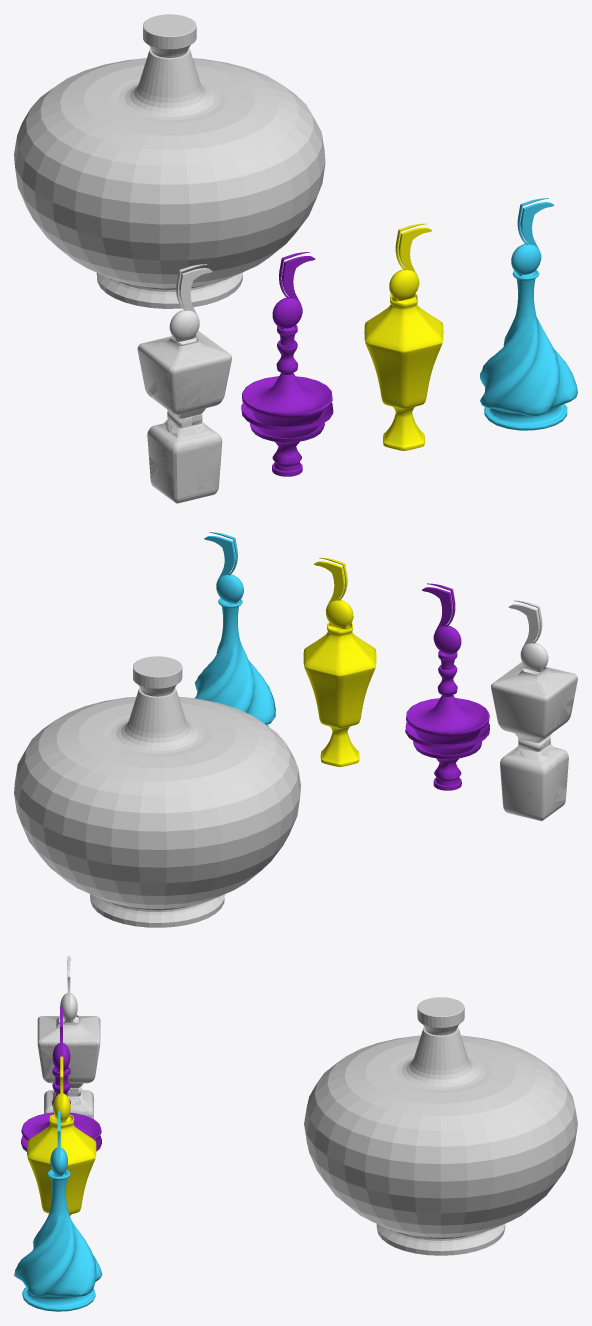
Rendered from Potion_Fin_Cassee.fbx.
3 views of the same model, one above another, from view 1: azimuth 30°, elevation 25°; view 2: azimuth 150°, elevation 25°; view 3: azimuth 270°, elevation 25° (orthographic). The views are drawn at different scales.
Visible parts, largest first — view 1: Potion_Fin_Corps, Potion_Legato_Corps, Potion_Solo_Corps, Potion_Staccato_Corps, Potions_Pizzicato_Corps, Potion_Fin_Corps.001_cell.086, Potion_Fin_Corps.001_cell.053, Potion_Fin_Bouchon, Potion_Fin_Corps.001_cell.063, Potion_Staccato_Bouchon, Potion_Fin_Corps.001_cell.088, Potion_Solo_Corps_Bouchon (+13 smaller); view 2: Potion_Fin_Corps, Potion_Solo_Corps, Potion_Staccato_Corps, Potions_Pizzicato_Corps, Potion_Legato_Corps, Potion_Fin_Corps.001_cell.097, Potion_Fin_Corps.001_cell.016, Potion_Fin_Corps.001_cell.093, Potion_Fin_Corps.001_cell.008, Potion_Fin_Bouchon, Potion_Fin_Corps.001_cell.044, Potion_Fin_Corps.001_cell.088 (+11 smaller); view 3: Potion_Fin_Corps, Potion_Legato_Corps, Potion_Staccato_Corps, Potion_Solo_Corps, Potion_Fin_Corps.001_cell.067, Potion_Fin_Corps.001_cell.097, Potion_Fin_Corps.001_cell.042, Potion_Fin_Corps.001_cell.030, Potion_Fin_Corps.001_cell.069, Potions_Pizzicato_Corps, Potion_Fin_Bouchon, Potion_Fin_Corps.001_cell.038 (+11 smaller).
Boxes of the visible parts, box(x1,y1,x2,y2) form: Potion_Fin_Corps: box(14, 48, 325, 308); Potion_Legato_Corps: box(480, 269, 577, 430); Potion_Solo_Corps: box(137, 334, 231, 503); Potion_Staccato_Corps: box(364, 294, 443, 450); Potions_Pizzicato_Corps: box(241, 325, 333, 476); Potion_Fin_Corps.001_cell.086: box(194, 211, 288, 262); Potion_Fin_Corps.001_cell.053: box(58, 154, 148, 203); Potion_Fin_Bouchon: box(143, 14, 196, 57); Potion_Fin_Corps.001_cell.063: box(130, 224, 199, 269); Potion_Staccato_Bouchon: box(389, 223, 431, 303); Potion_Fin_Corps.001_cell.088: box(15, 118, 62, 196); Potion_Solo_Corps_Bouchon: box(169, 264, 212, 344); Potion_Fin_Corps: box(14, 687, 300, 927); Potion_Solo_Corps: box(491, 662, 577, 821); Potion_Staccato_Corps: box(303, 622, 376, 766); Potions_Pizzicato_Corps: box(405, 650, 489, 790); Potion_Legato_Corps: box(194, 598, 275, 726); Potion_Fin_Corps.001_cell.097: box(67, 755, 175, 804); Potion_Fin_Corps.001_cell.016: box(83, 790, 166, 861); Potion_Fin_Corps.001_cell.093: box(164, 793, 230, 864); Potion_Fin_Corps.001_cell.008: box(162, 768, 234, 804); Potion_Fin_Bouchon: box(133, 656, 182, 696); Potion_Fin_Corps.001_cell.044: box(67, 804, 144, 876); Potion_Fin_Corps.001_cell.088: box(230, 768, 288, 839); Potion_Fin_Corps: box(304, 1027, 577, 1255); Potion_Legato_Corps: box(14, 1169, 102, 1311); Potion_Staccato_Corps: box(27, 1114, 96, 1215); Potion_Solo_Corps: box(37, 1015, 100, 1118); Potion_Fin_Corps.001_cell.067: box(377, 1159, 461, 1221); Potion_Fin_Corps.001_cell.097: box(487, 1050, 567, 1107); Potion_Fin_Corps.001_cell.042: box(400, 1155, 501, 1197); Potion_Fin_Corps.001_cell.030: box(486, 1087, 557, 1175); Potion_Fin_Corps.001_cell.069: box(330, 1166, 393, 1218); Potions_Pizzicato_Corps: box(21, 1067, 101, 1151); Potion_Fin_Bouchon: box(417, 997, 464, 1035); Potion_Fin_Corps.001_cell.038: box(311, 1112, 358, 1185).
Size of the model in its own units: 631 by 388 by 860.
